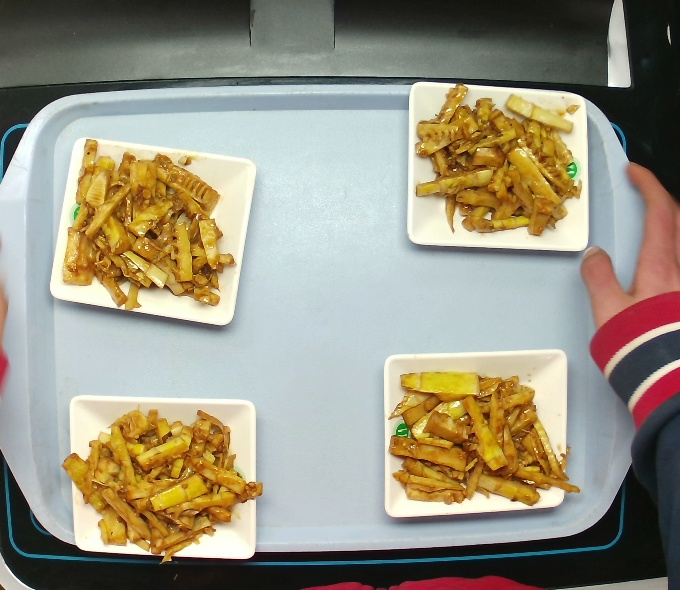wcq-QingChaoChunSun: (63, 406, 259, 566), (60, 142, 240, 314), (380, 362, 581, 514), (414, 89, 586, 241)
